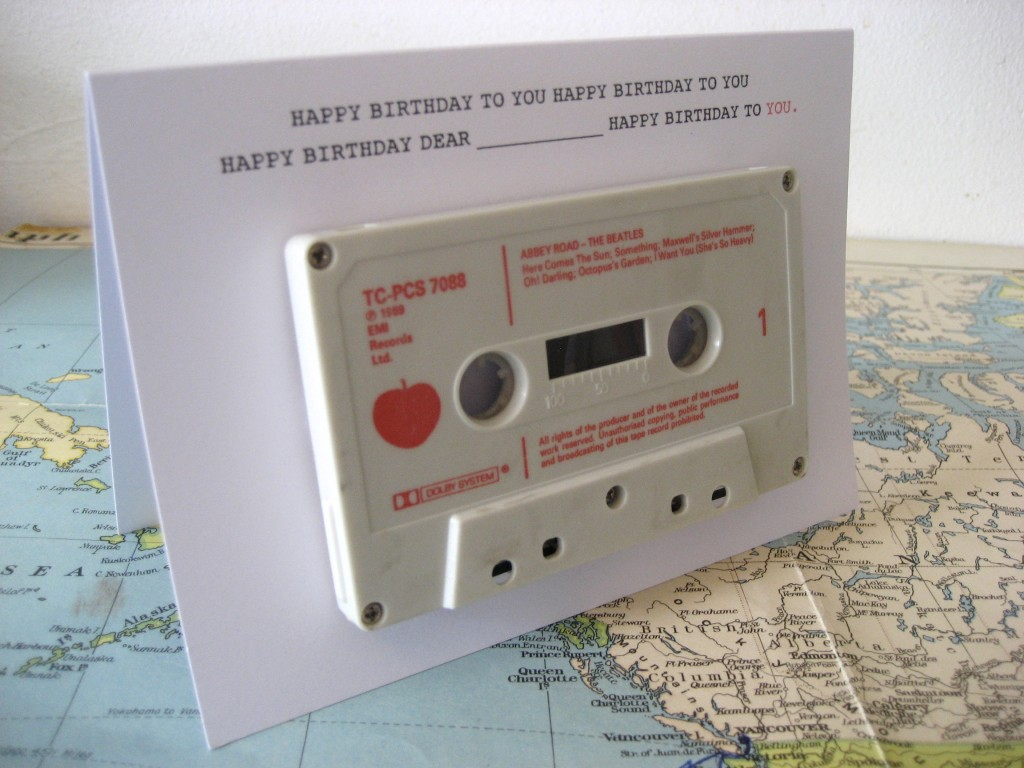Nonrec_Other: (222, 173, 838, 632)
